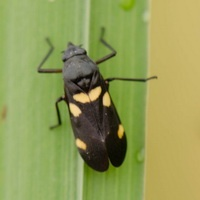insect: (38, 28, 156, 171)
